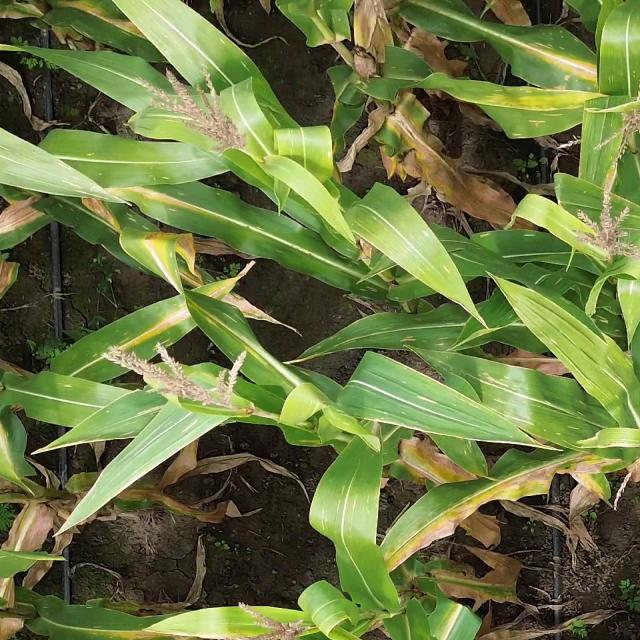gray-leaf-spot: (485, 375, 595, 430), (388, 372, 481, 432), (372, 221, 458, 281), (539, 326, 625, 382), (181, 31, 261, 88), (343, 316, 468, 352), (310, 478, 374, 534), (498, 103, 584, 139), (110, 387, 164, 439), (222, 306, 264, 362), (333, 254, 379, 298)
northern-leaf-blight: (407, 453, 566, 533), (504, 31, 605, 85), (117, 302, 216, 354), (136, 188, 254, 229), (59, 0, 165, 43), (93, 612, 204, 640), (0, 201, 65, 247), (132, 235, 180, 275), (0, 422, 36, 475), (435, 597, 471, 640)
southern-leaf-blight: (71, 146, 186, 185)
